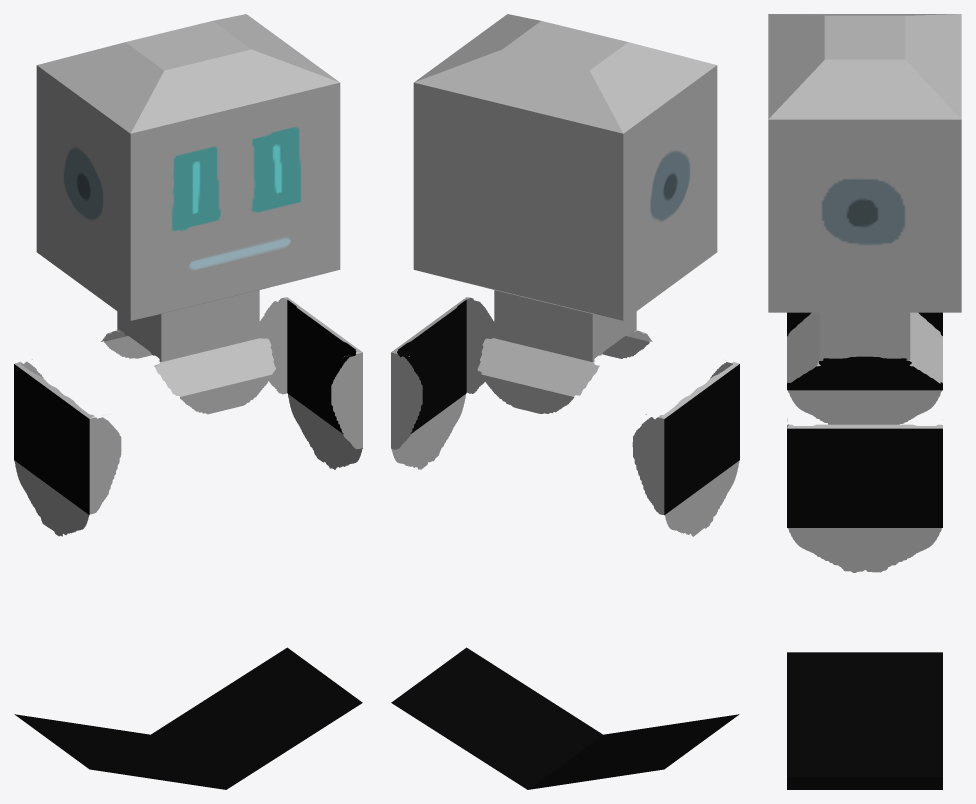
The model's file is robotBody.fbx.
3 views of the same model, side by side, from view 1: azimuth 30°, elevation 25°; view 2: azimuth 150°, elevation 25°; view 3: azimuth 270°, elevation 25° (orthographic). The views are drawn at different scales.
Visible parts, largest first — view 1: Cube.103; view 2: Cube.103; view 3: Cube.103.
Part boxes in pixels (x1,y1,x2,y2): Cube.103: (14, 14, 362, 789); Cube.103: (391, 14, 739, 789); Cube.103: (768, 14, 961, 789).
Size of the model in its own units: 54.34 by 136 by 32.27.
